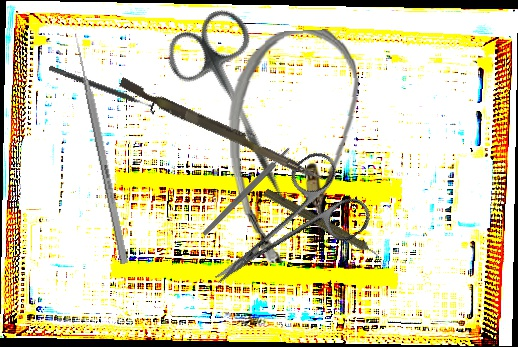Cannula: (224, 27, 369, 266)
Fixation Ring: (46, 59, 160, 115)
Handpiece: (260, 185, 389, 268)
Iris Scissors: (156, 1, 323, 216), (187, 144, 377, 317)
Pusher: (116, 77, 328, 183), (71, 32, 130, 265)
Scalpel Handle: (200, 145, 293, 238)
